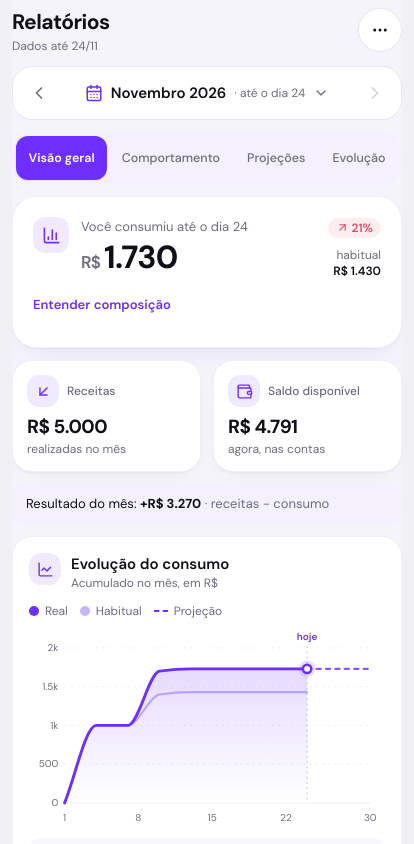
Test case: Relatórios v2 — layout anterior (reversão ?versao=abas) › navega pelas quatro abas e mostra o conteúdo de cada uma
The width and height of the screenshot is (414, 844).
Click the tab "Comportamento" at (171, 158), box [109, 136, 232, 180]
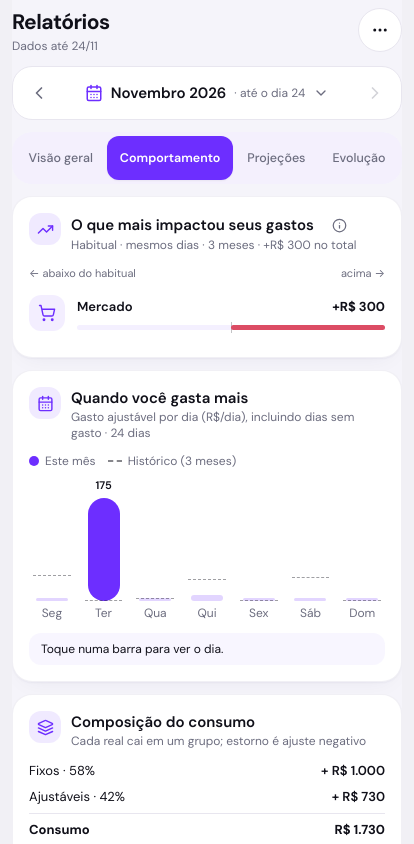
Click the tab "Projeções" at (276, 158), box [235, 136, 318, 180]
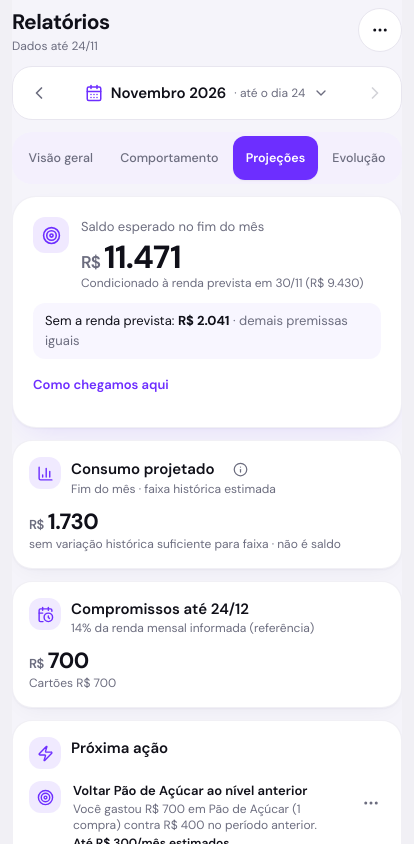
Expected: the text "Saldo esperado no fim do mês" is shown, [81, 218, 264, 235]
Expected: the text "Sem a renda prevista: R$ 2.041 · demais premissas iguais" is shown, [33, 303, 381, 359]
Click the tab "Evolução" at (359, 158), box [320, 136, 398, 180]
(page scrolled)
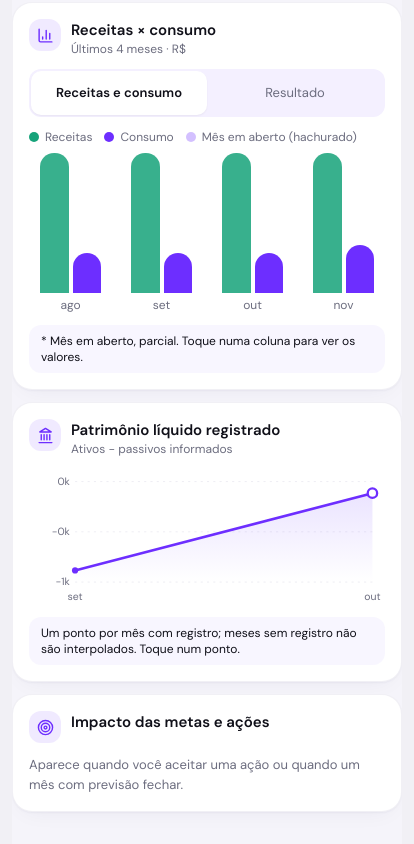
Expected: the element "Receitas × consumo" is shown, [12, 2, 402, 390]
Expected: the element "Patrimônio líquido registrado" is shown, [12, 402, 402, 682]
